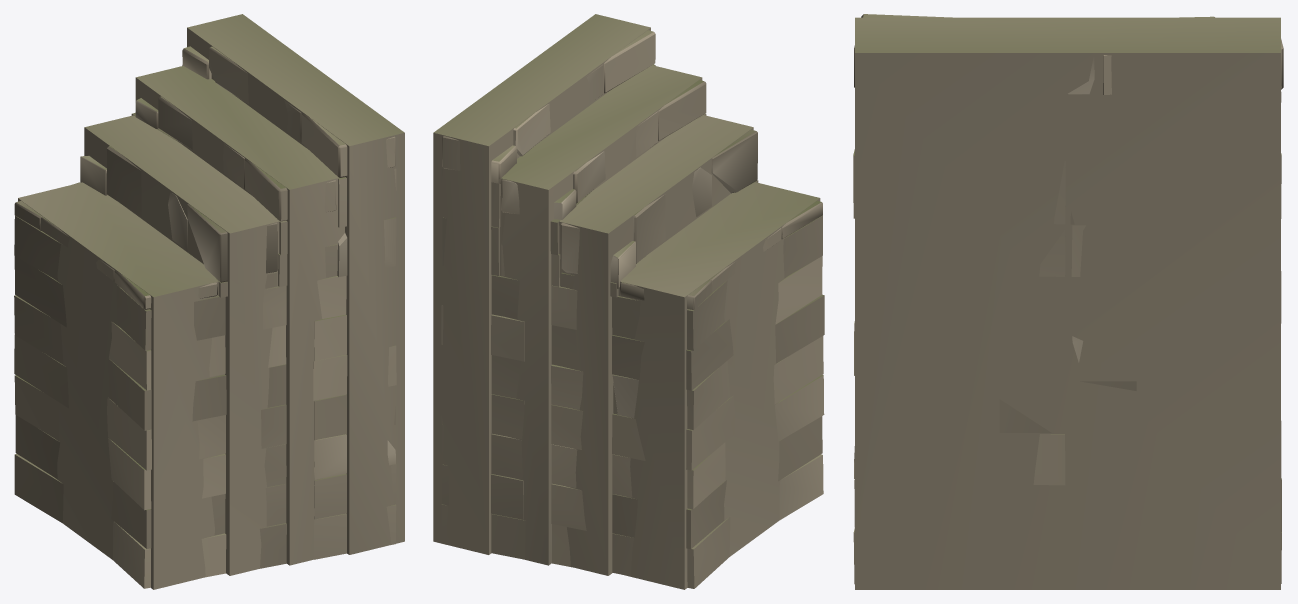
The model's file is theatre_seat_3.glb.
The picture shows the model from 3 angles, left to right: view 1: azimuth 30°, elevation 25°; view 2: azimuth 150°, elevation 25°; view 3: azimuth 270°, elevation 25°; orthographic projection. The views are drawn at different scales.
Visible parts, largest first — view 1: theatre_seat_3_far, theatre_seat_3; view 2: theatre_seat_3_far, theatre_seat_3; view 3: theatre_seat_3_far, theatre_seat_3.
Boxes of the visible parts, x1,y1,x2,y2 form: theatre_seat_3_far: (18, 14, 404, 589); theatre_seat_3: (14, 46, 396, 588); theatre_seat_3_far: (433, 14, 820, 589); theatre_seat_3: (441, 30, 824, 588); theatre_seat_3_far: (855, 17, 1280, 589); theatre_seat_3: (853, 14, 1283, 584).
Bounding box in the file's own units: 12.38 × 19.71 × 14.32.
